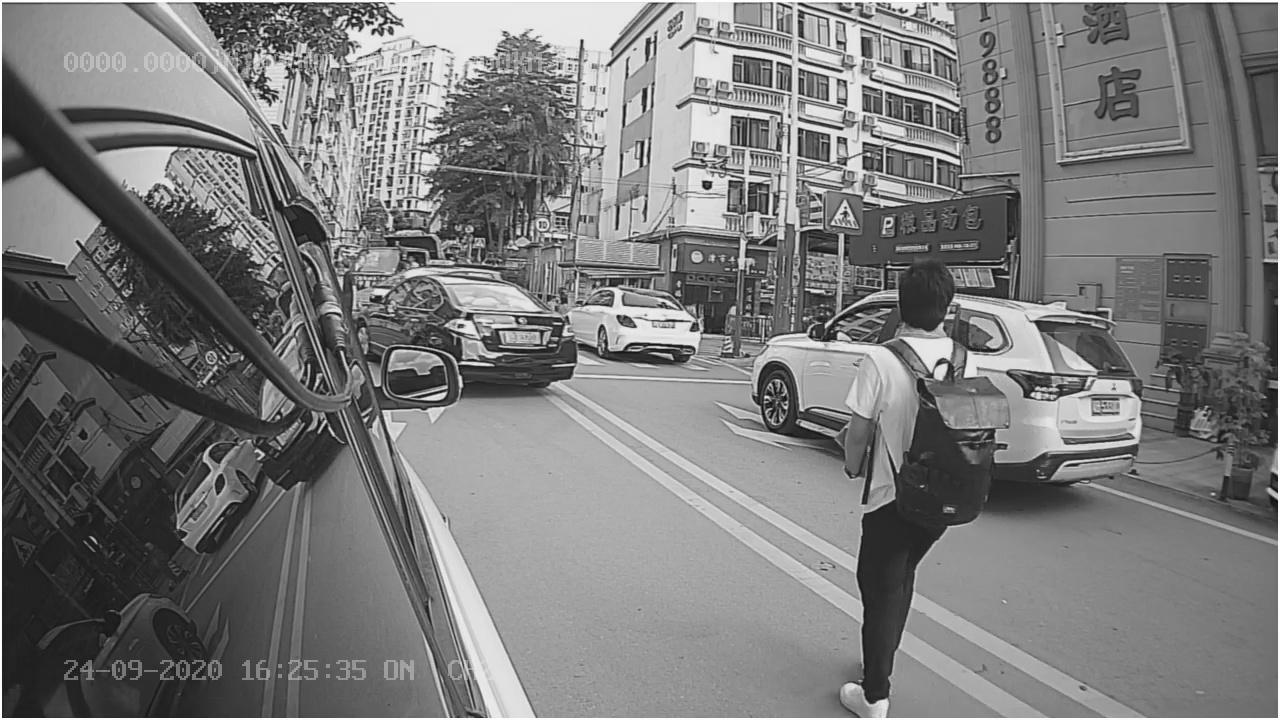person: (814, 252, 1011, 717)
